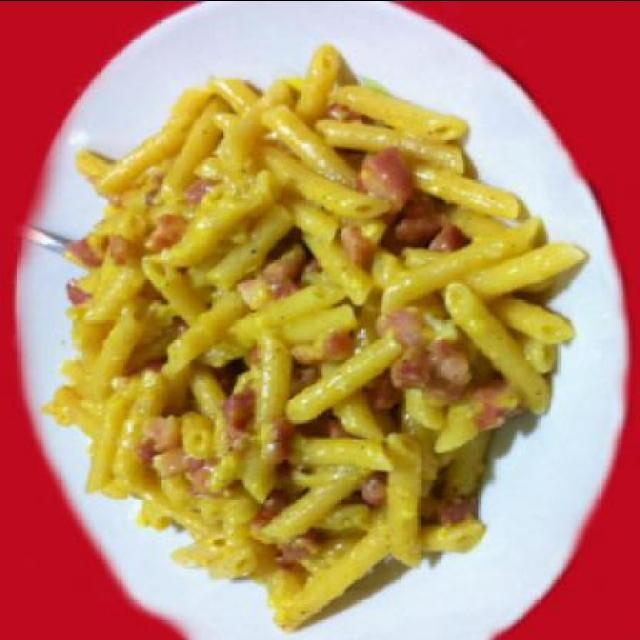Pasta with carbonara sauce: (46, 20, 583, 611)
